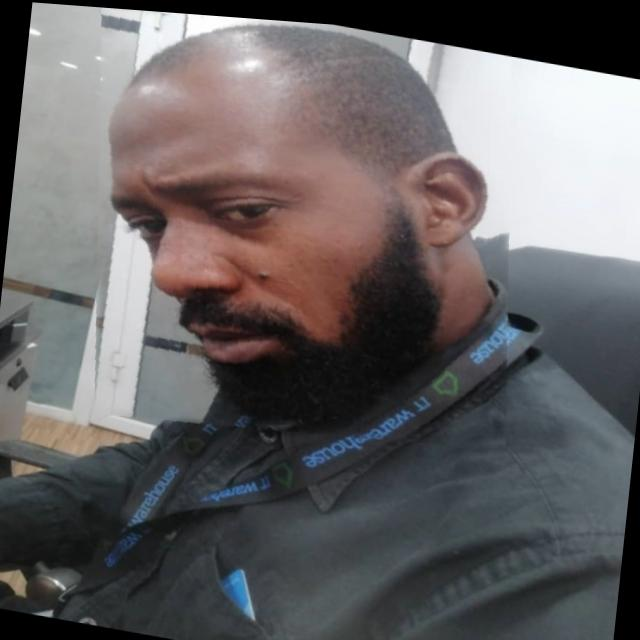sad: (66, 4, 536, 469)
